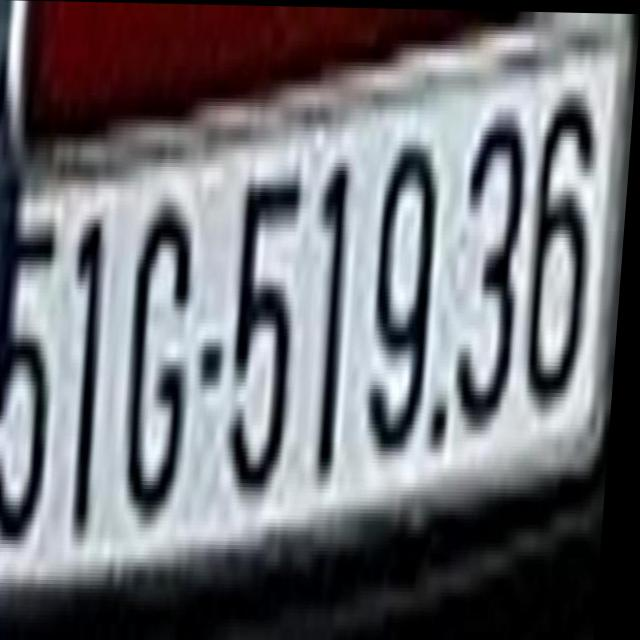1: (298, 142, 362, 518), (60, 200, 113, 553)
3: (455, 101, 533, 436)
5: (229, 167, 310, 495), (0, 221, 69, 556)
6: (526, 68, 605, 410)
9: (372, 123, 445, 477)
G: (125, 185, 205, 535)
